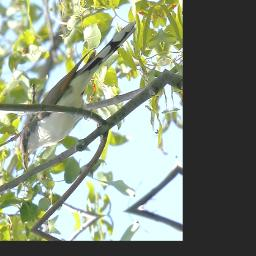Cuckoo: (6, 19, 153, 172)
